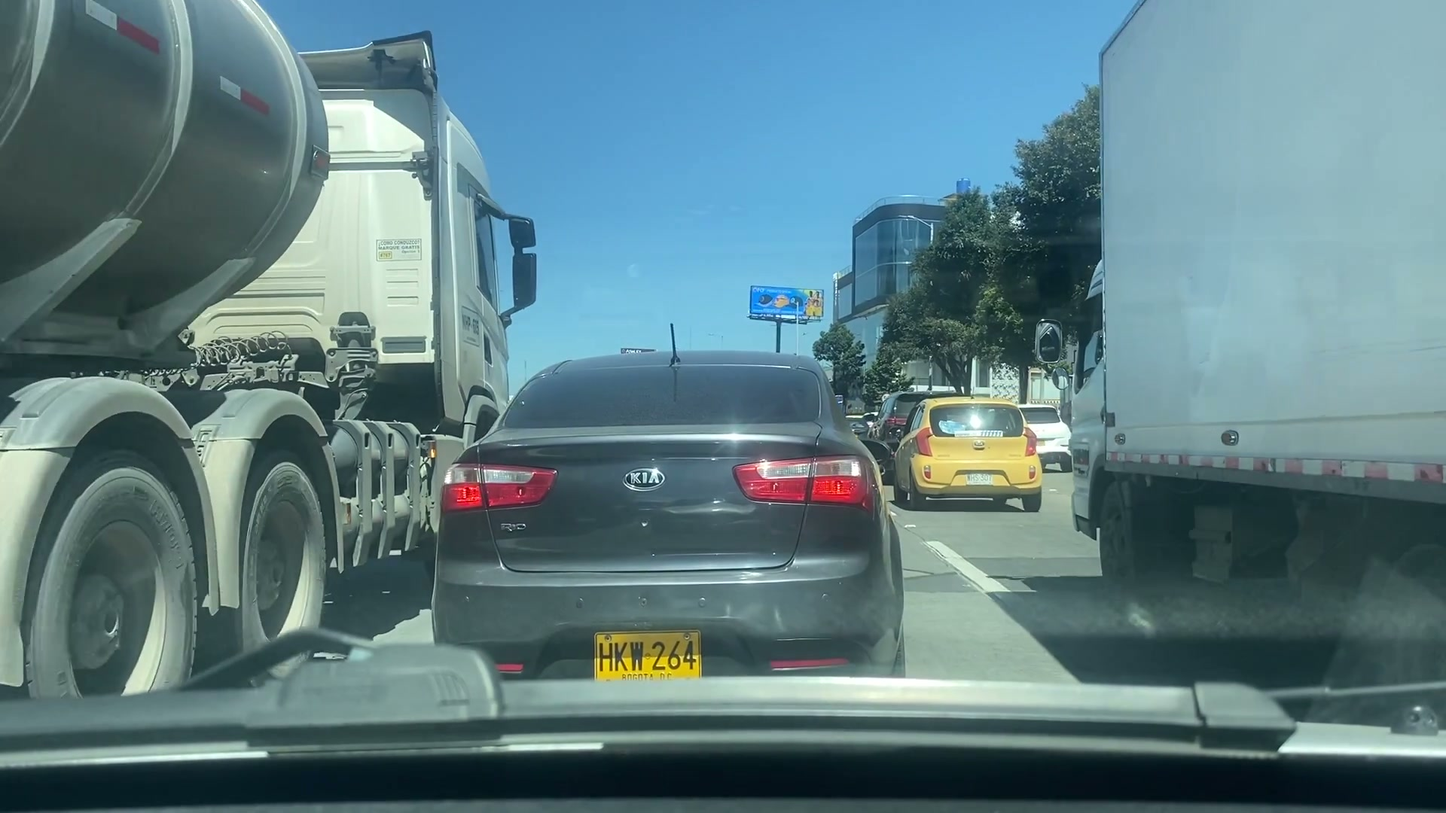car: (438, 352, 909, 679), (893, 396, 1039, 515), (867, 390, 970, 461), (1010, 401, 1071, 469)
truck: (0, 0, 543, 694), (1063, 0, 1446, 698)
